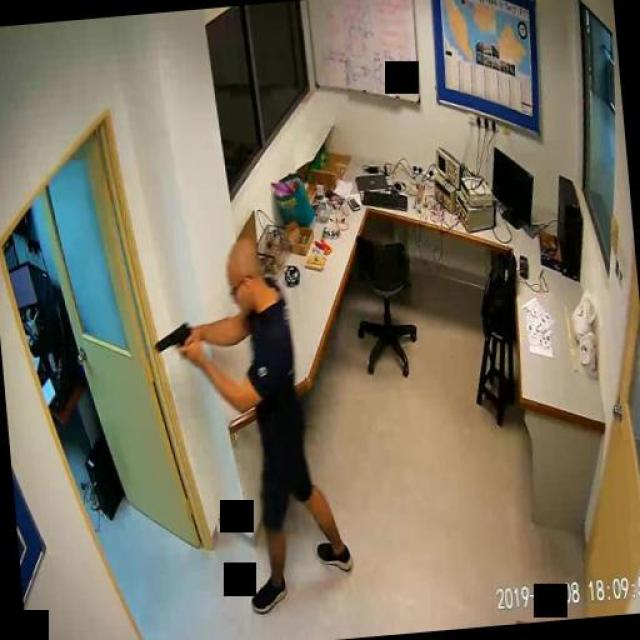gun: (150, 318, 208, 368)
